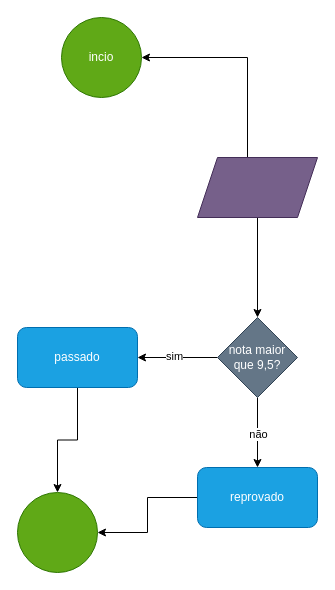
Some shapes in this 335 by 590 pixel diagram are drawn without their labels. Each missing label, with the box of its shape:
FIM: (16, 492, 98, 572)
Ler notas: (196, 156, 318, 218)
